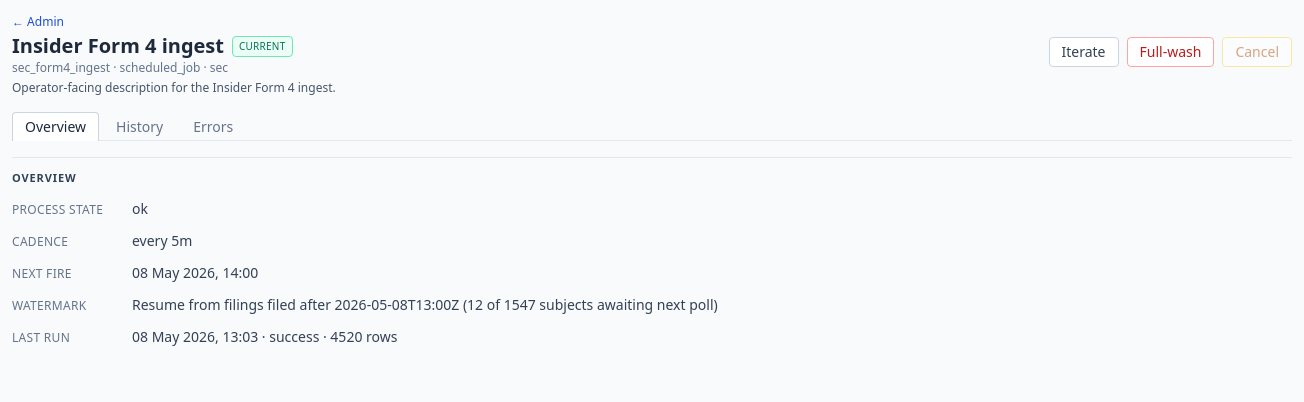
ProcessDetailPage › History tab shows the JobProgress error buckets the scalar cannot see
Click the tab "History".
click(140, 126)  # box [103,112,176,141]
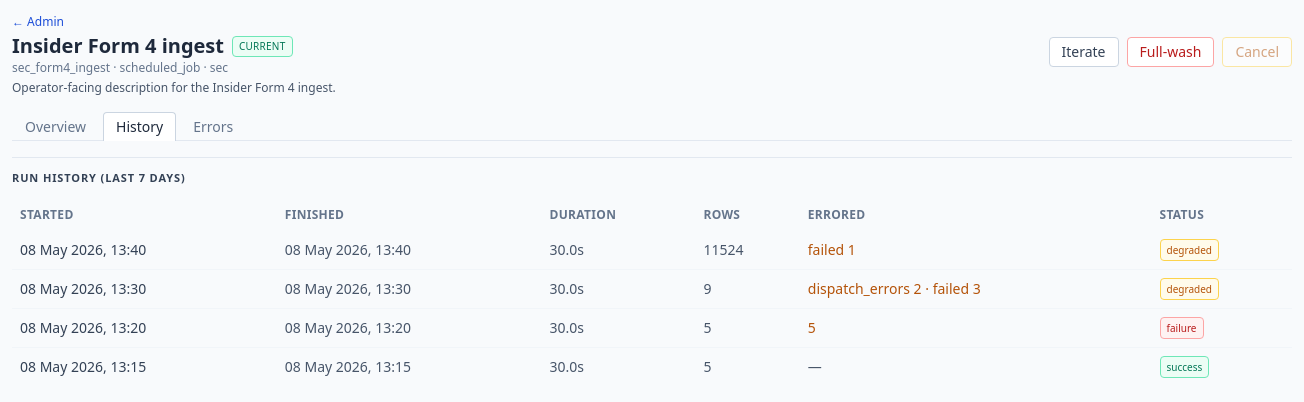
Result: the elements with test id "run-rows-errored" read "failed 1", "dispatch_errors 2 · failed 3", "5", "—", in this order at [800,230,1152,269]; [800,269,1152,308]; [800,308,1152,347]; [800,347,1152,386]
